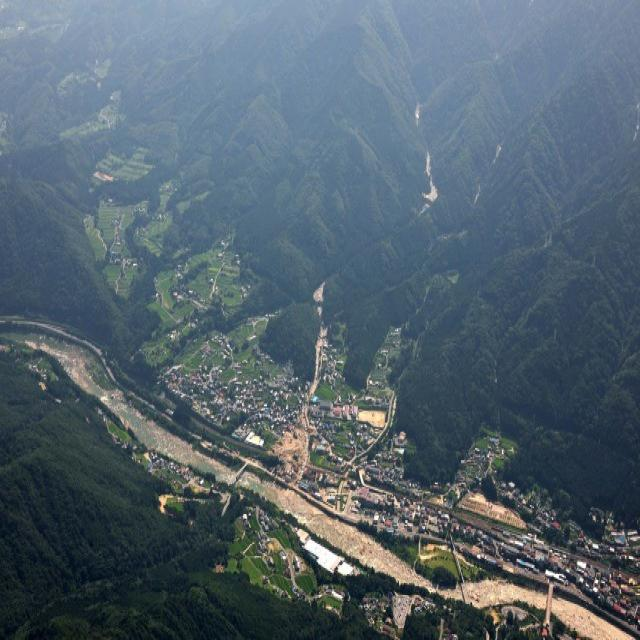Debris-flow: (308, 281, 328, 398), (421, 150, 439, 211)
